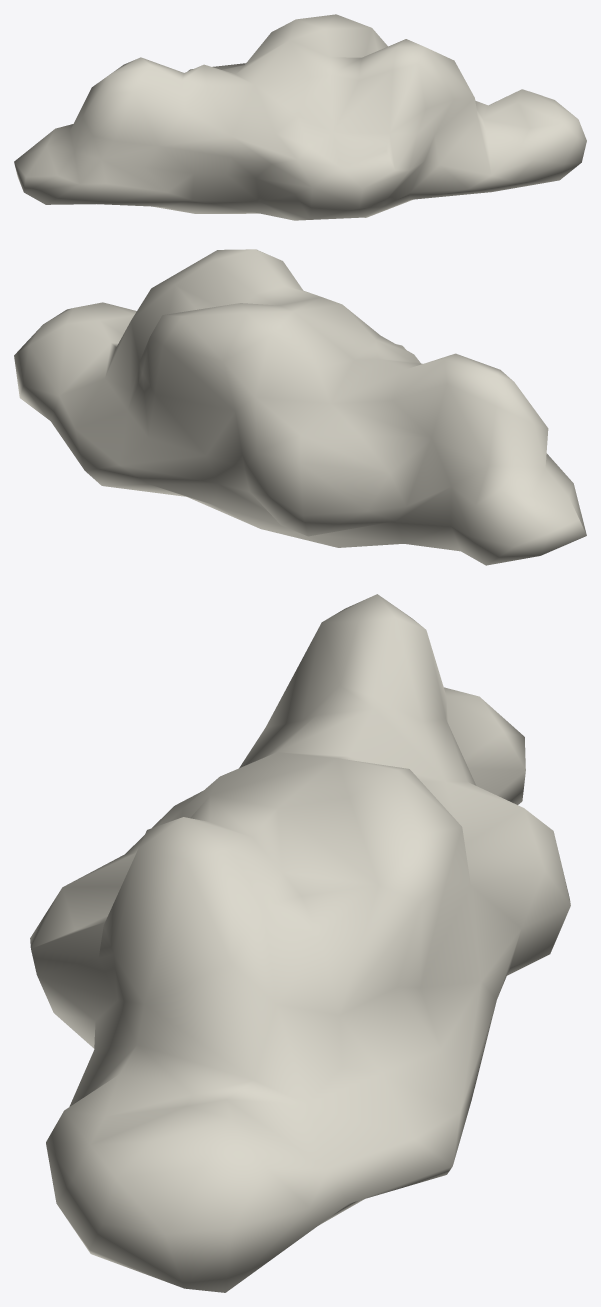
Rendered from rpgpp_ag_cloud_05.fbx.
The picture shows the model from 3 angles, top to bottom: view 1: azimuth 30°, elevation 25°; view 2: azimuth 150°, elevation 25°; view 3: azimuth 270°, elevation 25°; orthographic projection. The views are drawn at different scales.
Visible parts, largest first — view 1: rpgpp_ag_cloud_02; view 2: rpgpp_ag_cloud_02; view 3: rpgpp_ag_cloud_02.
Boxes of the visible parts, <box> form: rpgpp_ag_cloud_02: <box>14,14,586,220</box>; rpgpp_ag_cloud_02: <box>14,249,586,565</box>; rpgpp_ag_cloud_02: <box>30,594,570,1292</box>.
Bounding box in the file's own units: 48.83 × 15.19 × 22.85.
